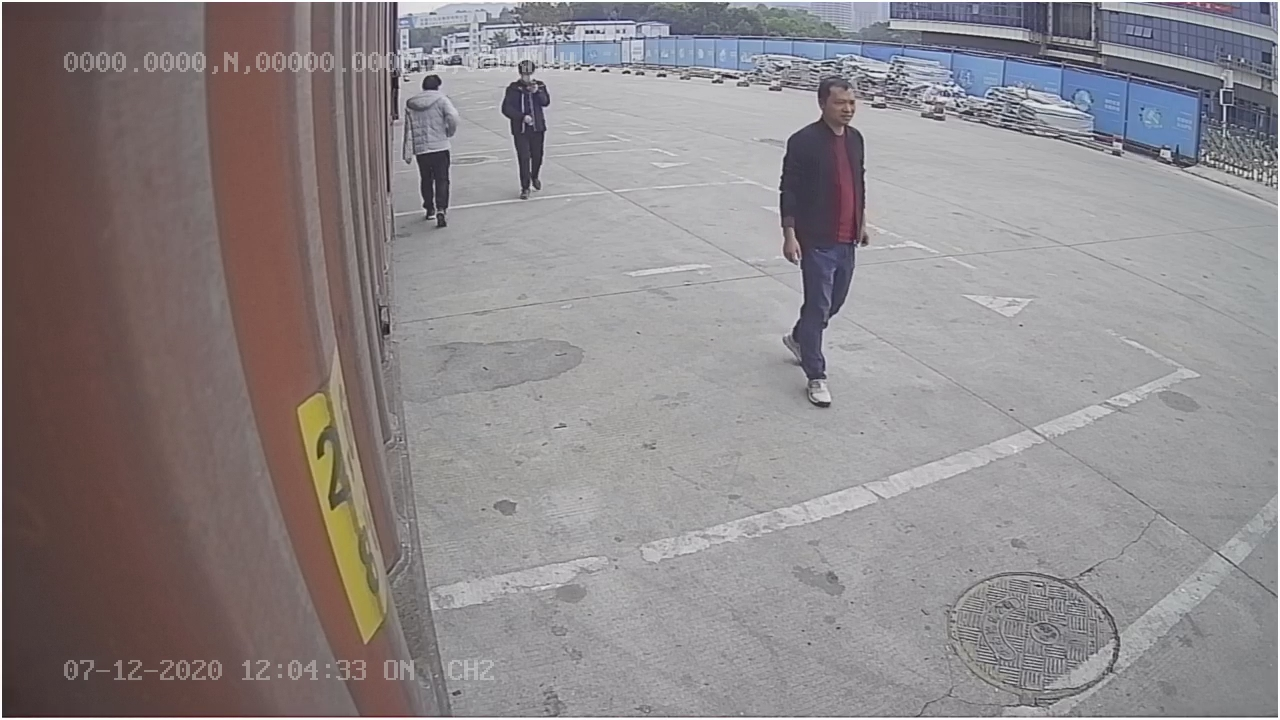person: (774, 70, 875, 412)
